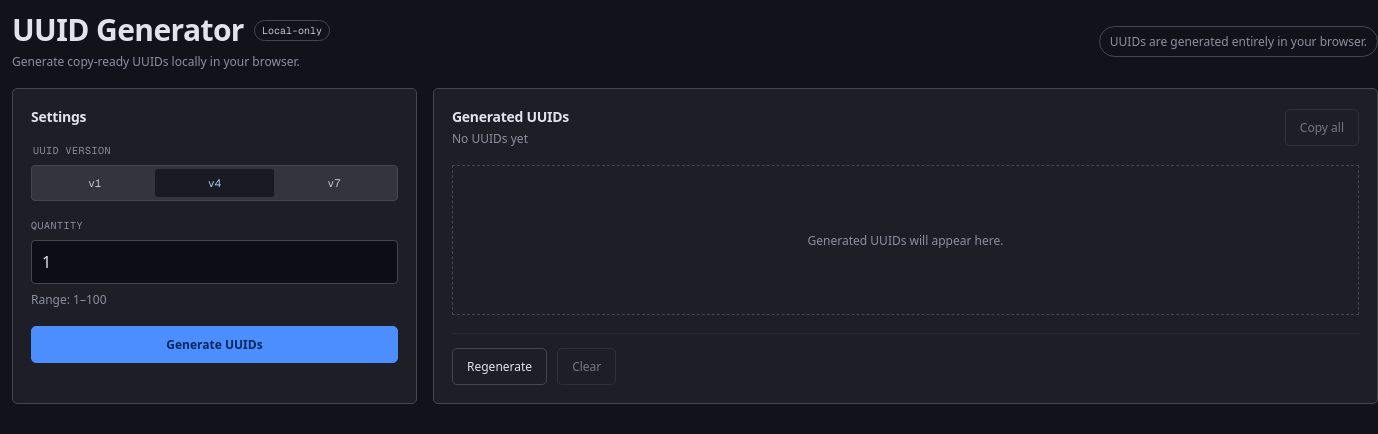
it: UUID Generator - Level 2 realistic/intermediate › clears an error after corrected input and can copy the generated batch
Replace the text in the field labelled "Quantity" with "invalid". click: (214, 262)
box: [31,240,398,284]
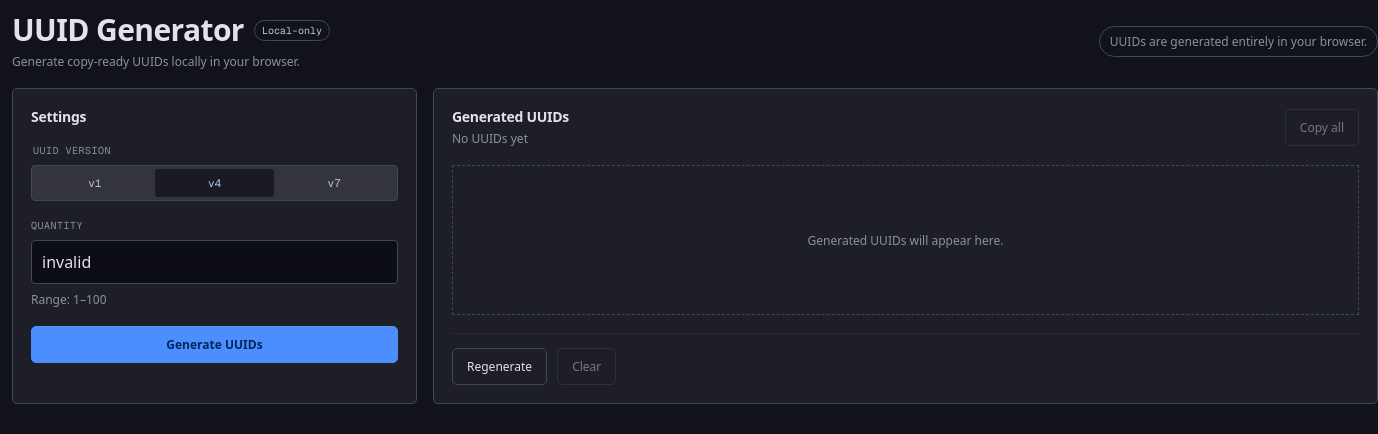
Click the button "Generate UUIDs". click: (214, 344)
box: [31,326,398,363]
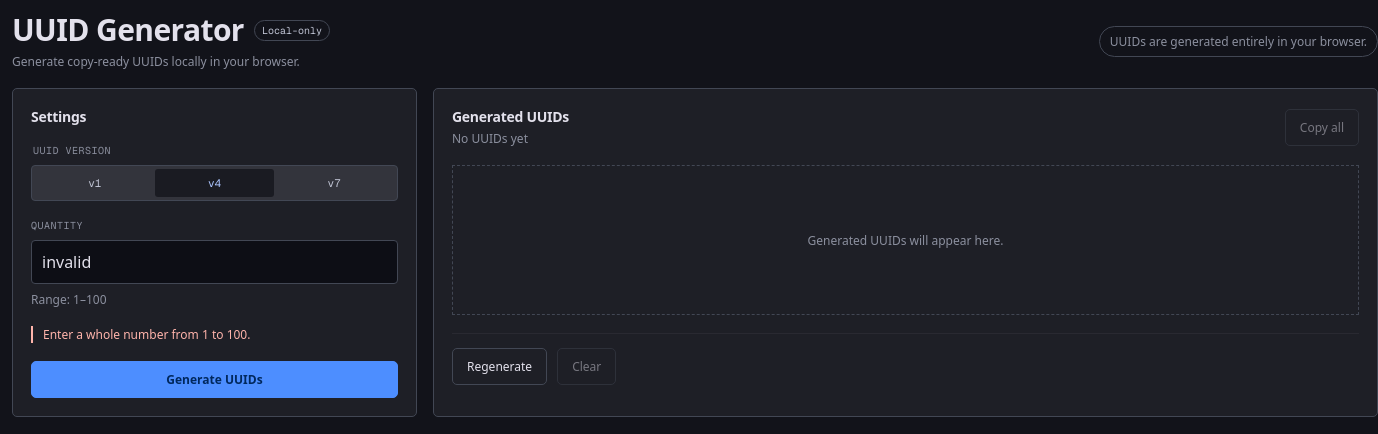
Now the message "Enter a whole number from 1 to 100." is shown, box [31,326,398,343]
Replace the text in the field labelled "Quantity" with "2". click: (214, 262)
box: [31,240,398,284]
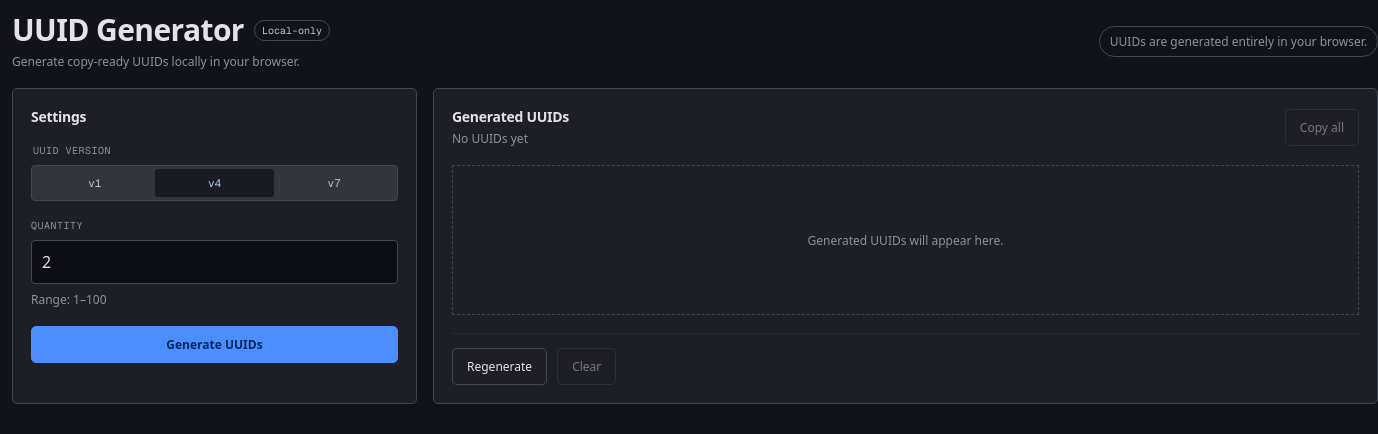
Click the button "Generate UUIDs". click: (214, 344)
box: [31,326,398,363]
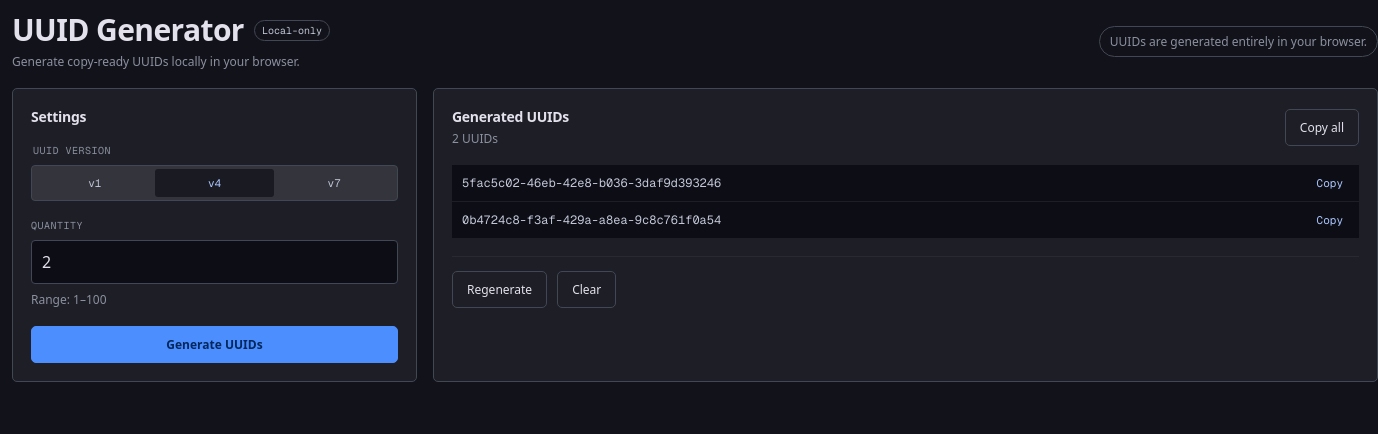
Click the button "Copy all". click: (1322, 127)
box: [1285,108,1359,146]
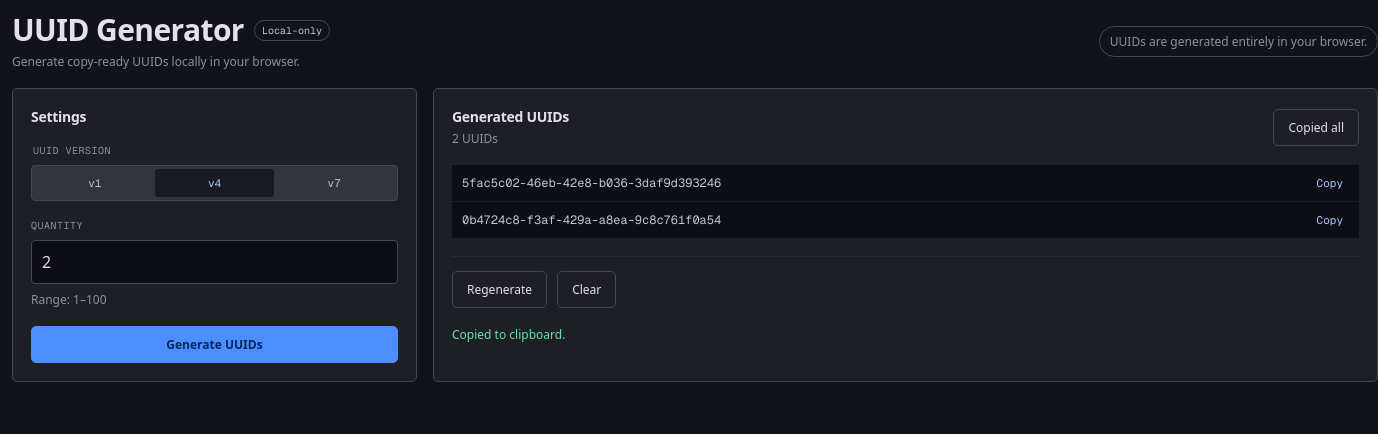
Now the message reads "Copied to clipboard.", box [452,326,565,343]
